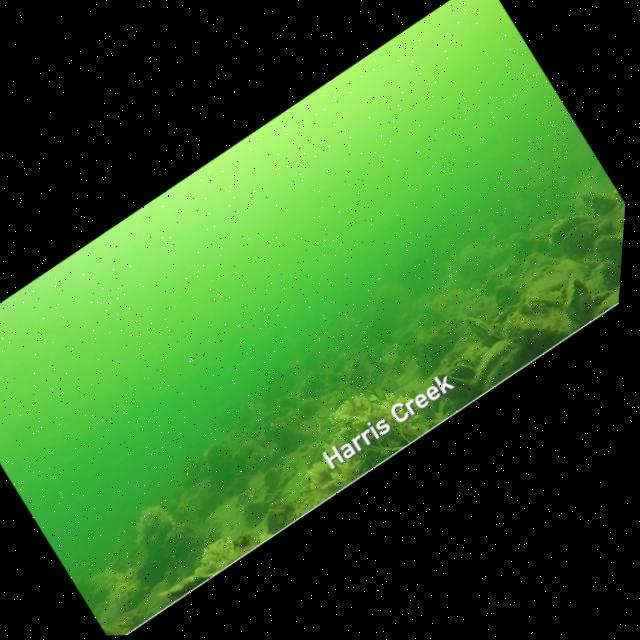Oyster-Closed: (505, 308, 572, 359), (174, 479, 217, 518), (201, 537, 236, 572), (465, 318, 501, 349), (494, 306, 518, 324)
Oyster-Indeterminate: (472, 340, 533, 392), (417, 323, 459, 378), (526, 259, 577, 300), (435, 373, 480, 414), (160, 573, 216, 602), (205, 444, 239, 488), (549, 216, 591, 247), (562, 222, 597, 259), (163, 525, 197, 559), (271, 423, 307, 454), (587, 262, 621, 294), (266, 501, 295, 535), (595, 236, 623, 268), (297, 372, 326, 400), (582, 194, 618, 216), (251, 446, 283, 469), (519, 296, 549, 316), (263, 410, 286, 434), (233, 444, 252, 472), (226, 474, 249, 497), (263, 411, 285, 435), (397, 331, 419, 355), (243, 502, 267, 523), (365, 367, 385, 388), (103, 622, 133, 636), (301, 399, 320, 420), (264, 470, 282, 492), (257, 425, 273, 447), (110, 559, 135, 573), (349, 369, 369, 385), (245, 459, 263, 476), (93, 588, 110, 606), (348, 357, 364, 372), (279, 396, 296, 410)
Oyster-Open: (565, 279, 595, 330), (137, 561, 166, 588), (496, 284, 522, 312), (448, 359, 477, 380), (382, 378, 400, 396)
